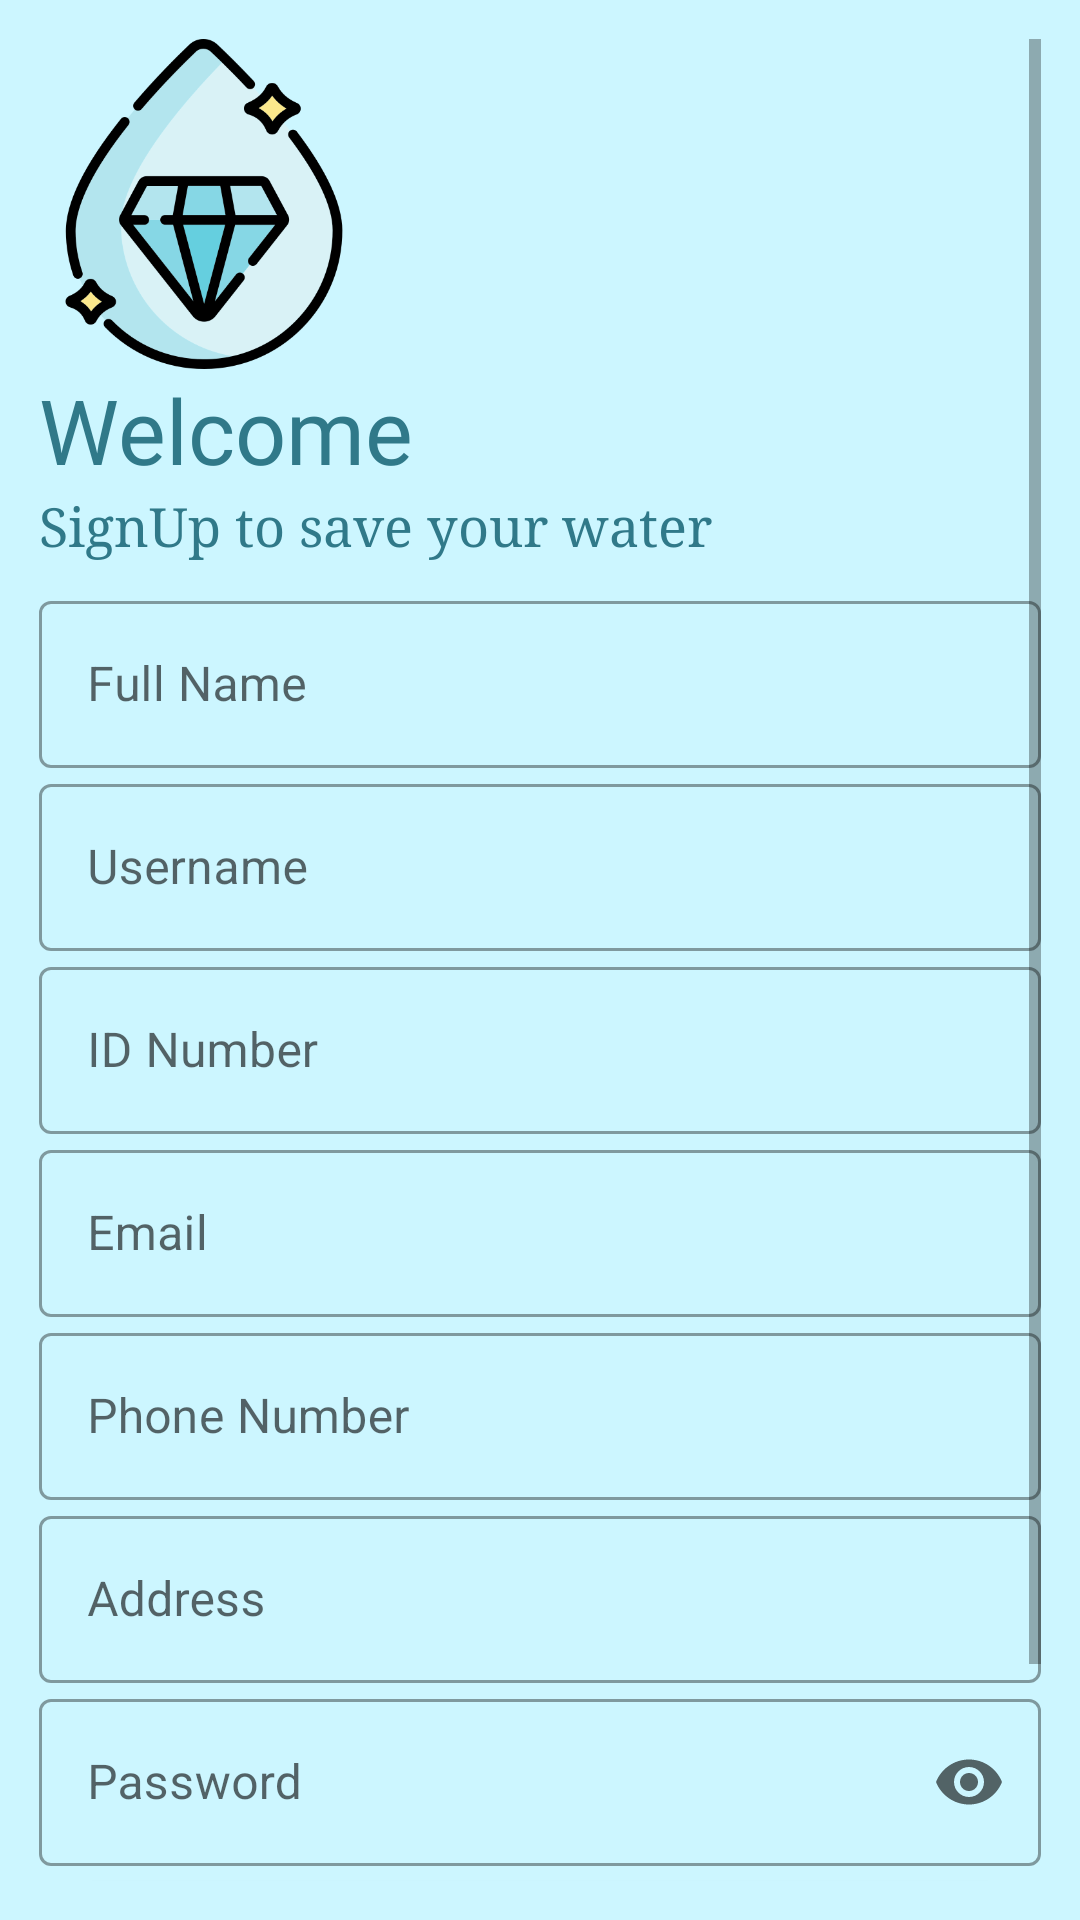

Named icons in this screenshot (1080*1920) and their centers, (x=x, y=y):
waterappicon: (x=204, y=204)
